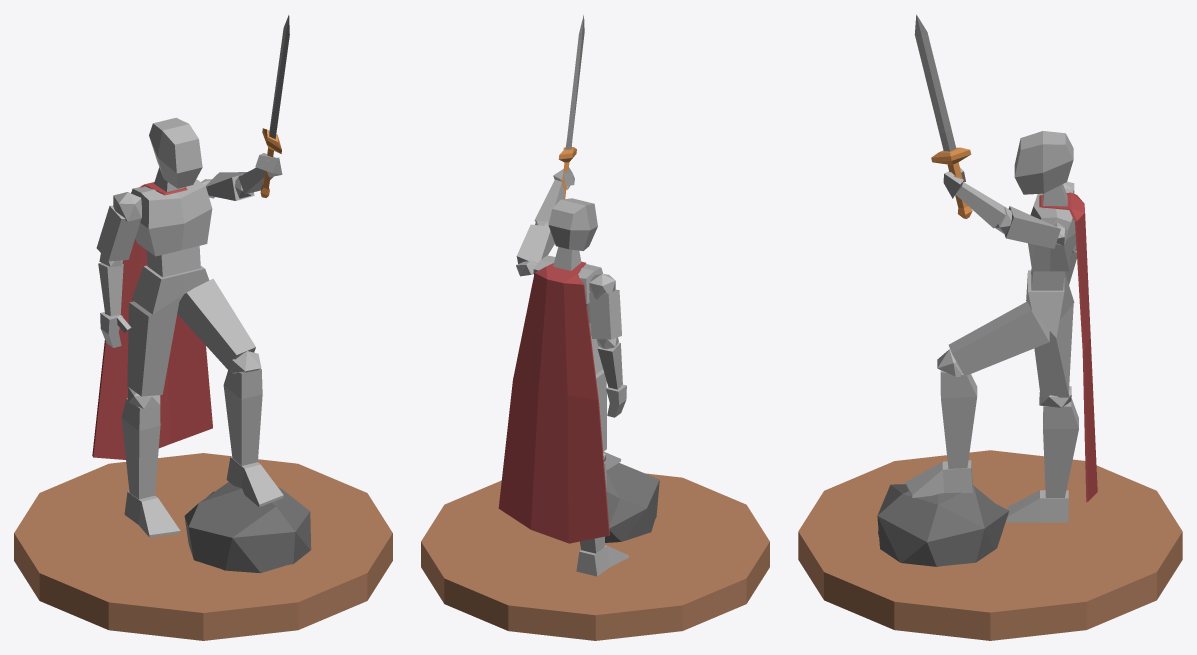
File: Sword fig.fbx
3 views of the same model, side by side, from view 1: azimuth 30°, elevation 25°; view 2: azimuth 150°, elevation 25°; view 3: azimuth 270°, elevation 25° (orthographic). The views are drawn at different scales.
Visible parts, largest first — view 1: Action figure; view 2: Action figure; view 3: Action figure.
Part boxes in pixels (bbox=[...]): Action figure: bbox=[14, 15, 392, 640]; Action figure: bbox=[421, 15, 769, 640]; Action figure: bbox=[798, 14, 1182, 640].
Size of the model in its own units: 145 by 145 by 237.
